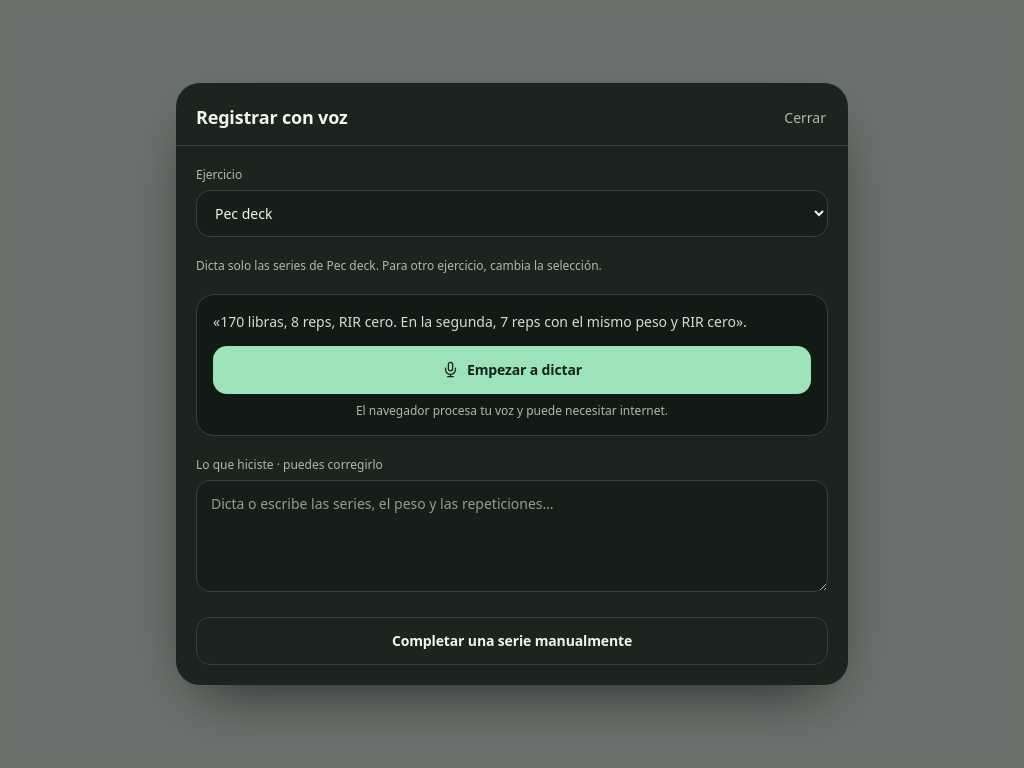
revisión del registro por voz › bloquea un dictado que menciona otro ejercicio de la sesión
Type "Pec deck 170 libras 8 reps; remo 100 libras 10 reps" into the text box labelled "Lo que hiciste · puedes corregirlo" at [512, 536], box [196, 480, 828, 592]
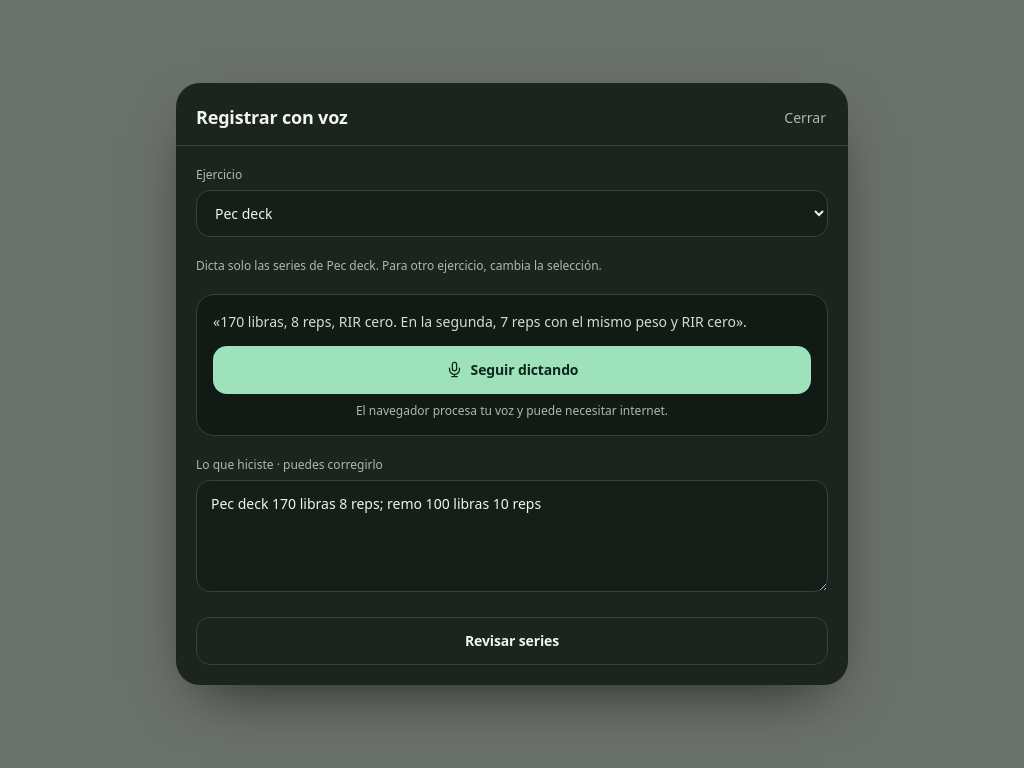
Click the button "Revisar series" at [512, 641], box [196, 617, 828, 665]
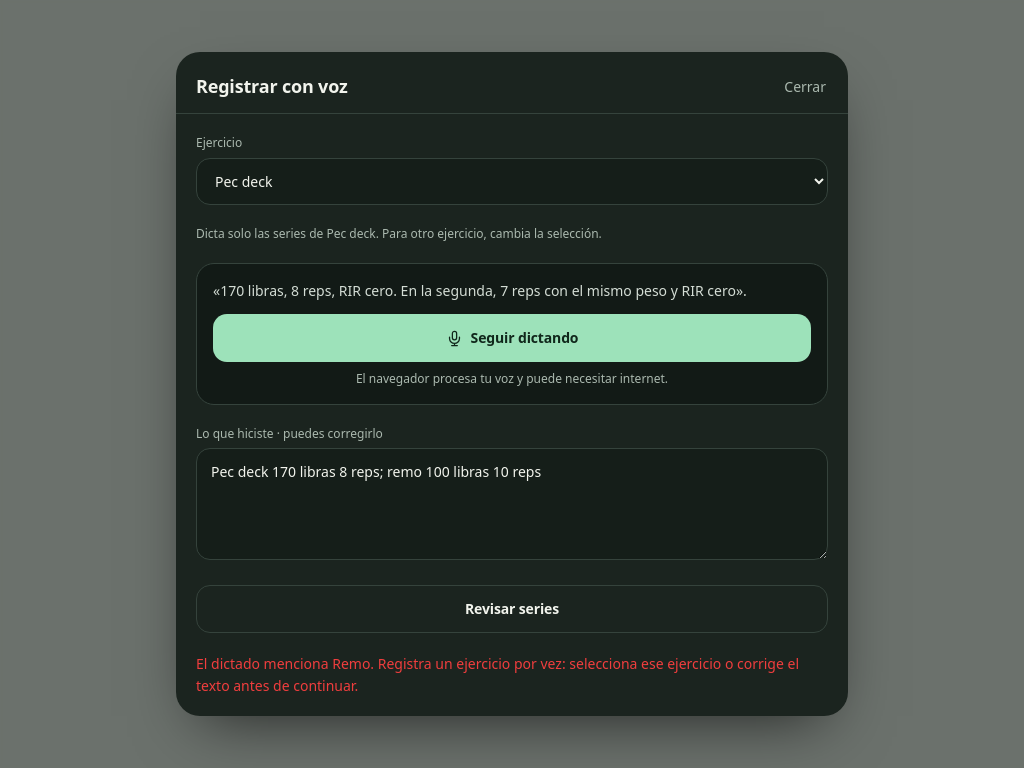
expect the message shows "Registra un ejercicio por vez": met, box [196, 654, 799, 695]
